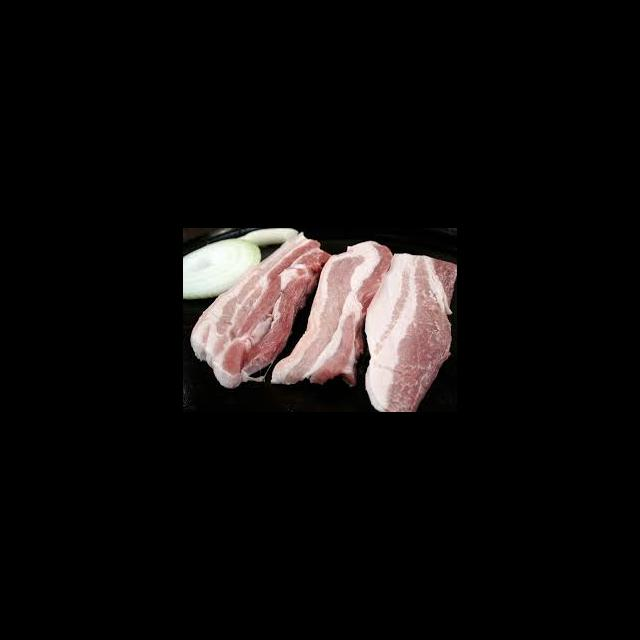pork: (377, 255, 456, 412), (188, 295, 281, 384), (301, 304, 361, 383), (315, 241, 385, 300), (270, 238, 322, 298)
